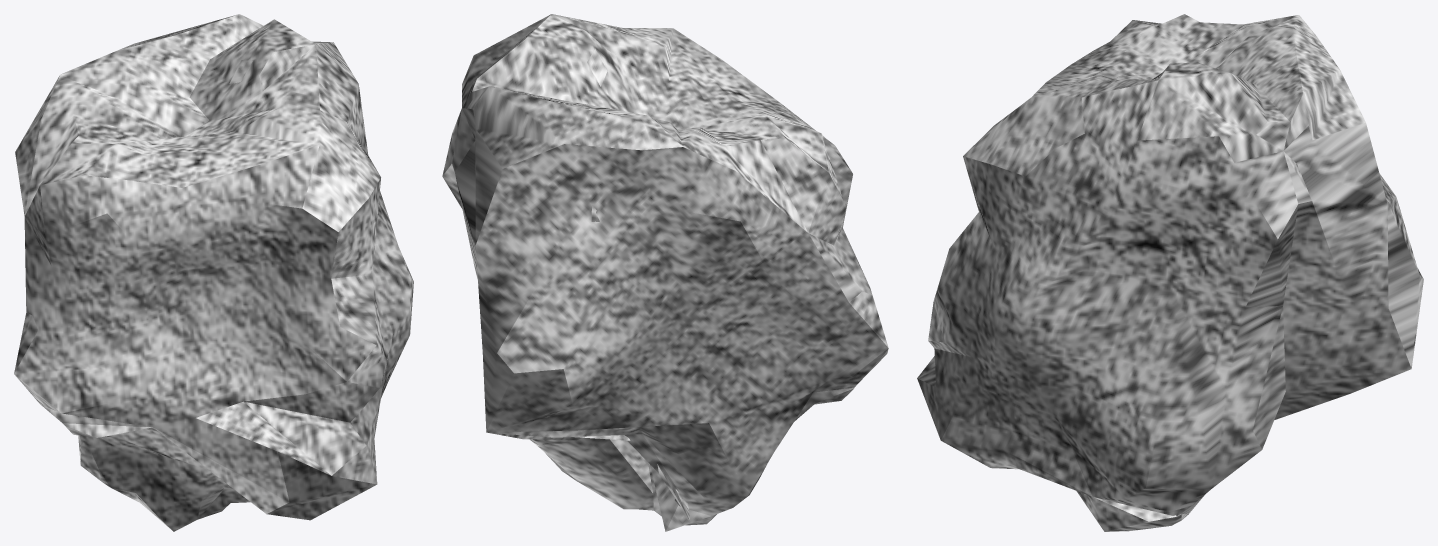
The model's file is Rock_Asset_02.fbx.
3 renders of one model, left to right at view 1: azimuth 30°, elevation 25°; view 2: azimuth 150°, elevation 25°; view 3: azimuth 270°, elevation 25°, orthographic. The views are drawn at different scales.
Visible parts, largest first — view 1: Rock_Asset; view 2: Rock_Asset; view 3: Rock_Asset.
Boxes of the visible parts, bbox=[...] form: Rock_Asset: bbox=[14, 14, 413, 531]; Rock_Asset: bbox=[442, 14, 888, 531]; Rock_Asset: bbox=[917, 14, 1423, 531].
Size of the model in its own units: 1.7 by 2.04 by 1.93.
Materials: 1 (1 with a texture image).
